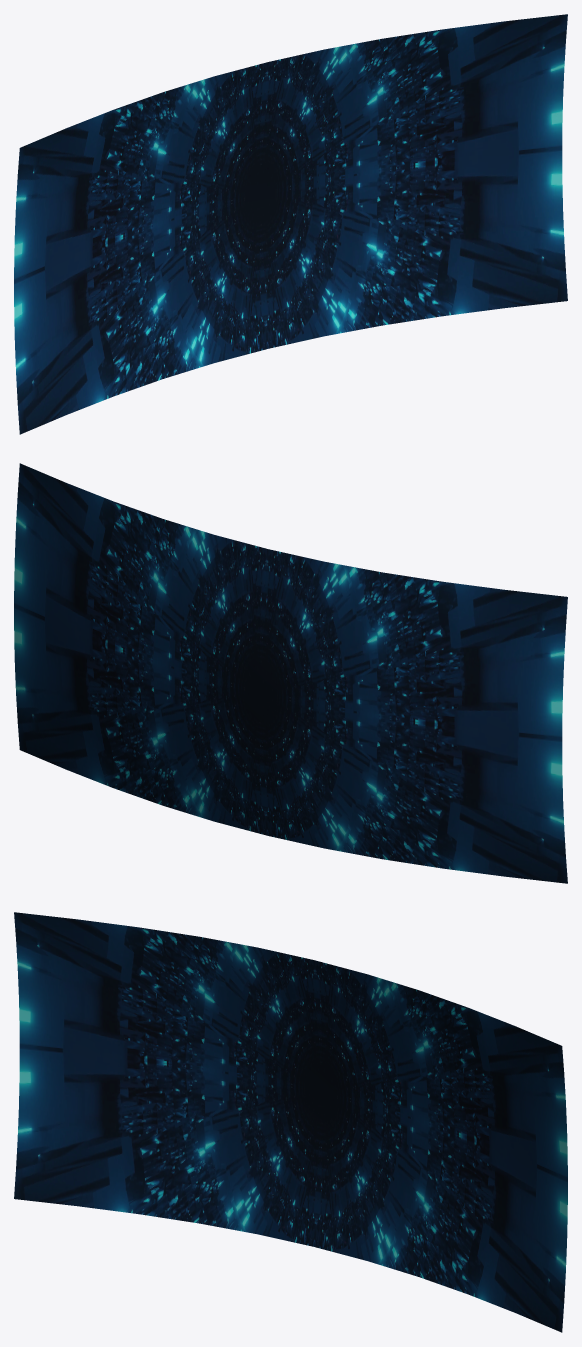
Rendered from C_Futuro4.fbx.
The picture shows the model from 3 angles, top to bottom: view 1: azimuth 30°, elevation 25°; view 2: azimuth 150°, elevation 25°; view 3: azimuth 330°, elevation 25°; orthographic projection.
Parts seen in each view (by area): view 1: pPlane1; view 2: pPlane1; view 3: pPlane1.
Boxes of the visible parts, x1,y1,x2,y2 form: pPlane1: [14, 14, 567, 434]; pPlane1: [14, 463, 567, 883]; pPlane1: [14, 912, 567, 1332].
Size of the model in its own units: 400 by 200 by 42.49.
1 material, 1 textured.
